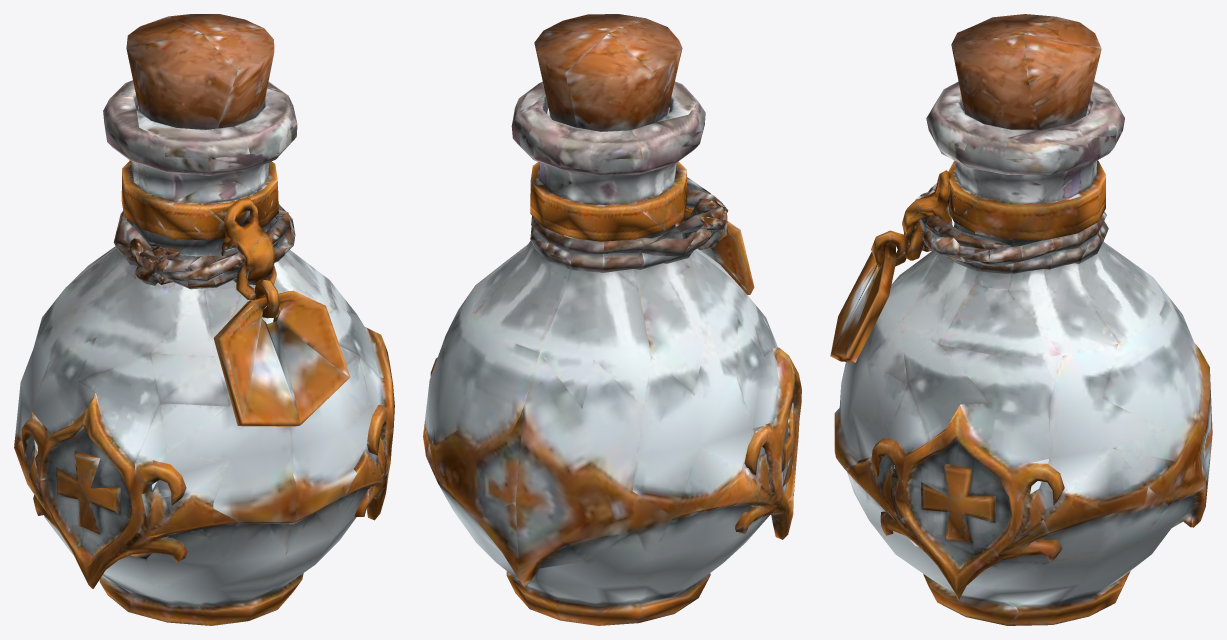
File: leeres_flaeschchen.glb
3 renders of one model, left to right at view 1: azimuth 30°, elevation 25°; view 2: azimuth 150°, elevation 25°; view 3: azimuth 270°, elevation 25°, orthographic.
Visible parts, largest first — view 1: heiltrank; view 2: heiltrank; view 3: heiltrank.
Part boxes in pixels (box(x1,y1,x2,y2)): heiltrank: box(14, 14, 394, 625); heiltrank: box(423, 14, 801, 625); heiltrank: box(830, 14, 1212, 625).
Bounding box in the file's own units: 0.1893 × 0.3 × 0.1881.
1 material, 1 textured.
